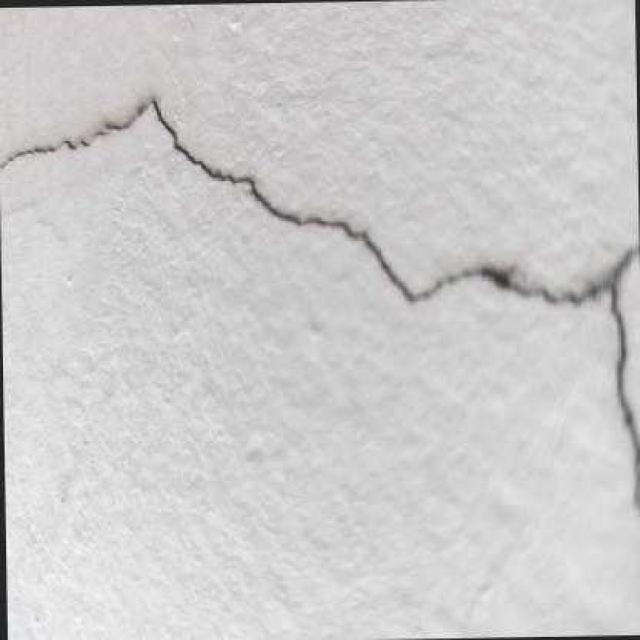D00: (101, 95, 640, 521), (0, 125, 110, 170)
